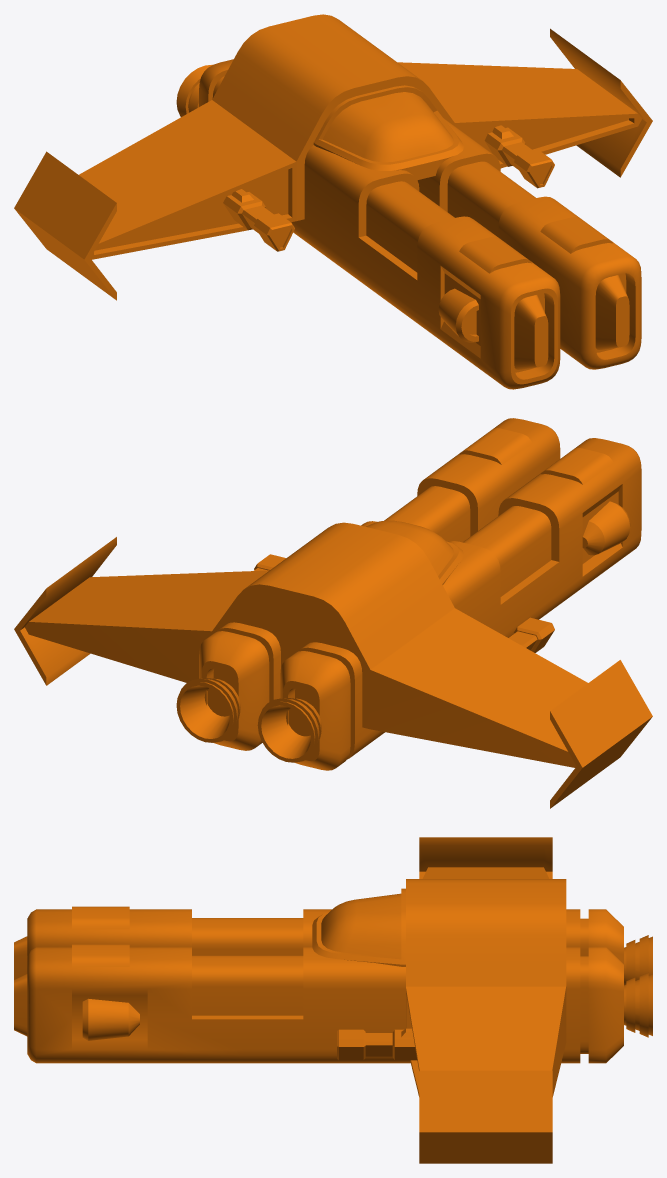
Rendered from M_Ship_Enemy_Heavy_1_Combined_Top.fbx.
3 renders of one model, top to bottom at view 1: azimuth 30°, elevation 25°; view 2: azimuth 150°, elevation 25°; view 3: azimuth 270°, elevation 25°, orthographic. The views are drawn at different scales.
Visible parts, largest first — view 1: Ship_Heavy_Cockpit_top; view 2: Ship_Heavy_Cockpit_top; view 3: Ship_Heavy_Cockpit_top.
Boxes of the visible parts, left/top/right/bottom form: Ship_Heavy_Cockpit_top: left=14, top=14, right=652, bottom=389; Ship_Heavy_Cockpit_top: left=14, top=418, right=652, bottom=808; Ship_Heavy_Cockpit_top: left=14, top=837, right=652, bottom=1163.
Size of the model in its own units: 700 by 190 by 718.
